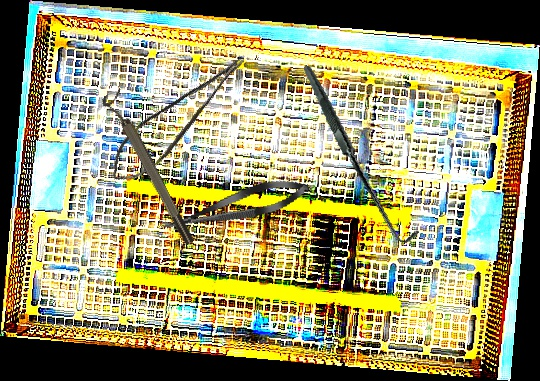Fixation Ring: (99, 88, 198, 250)
Hook Surgical: (273, 64, 448, 246)
Micro Scissor: (96, 51, 265, 192), (156, 171, 313, 242)
